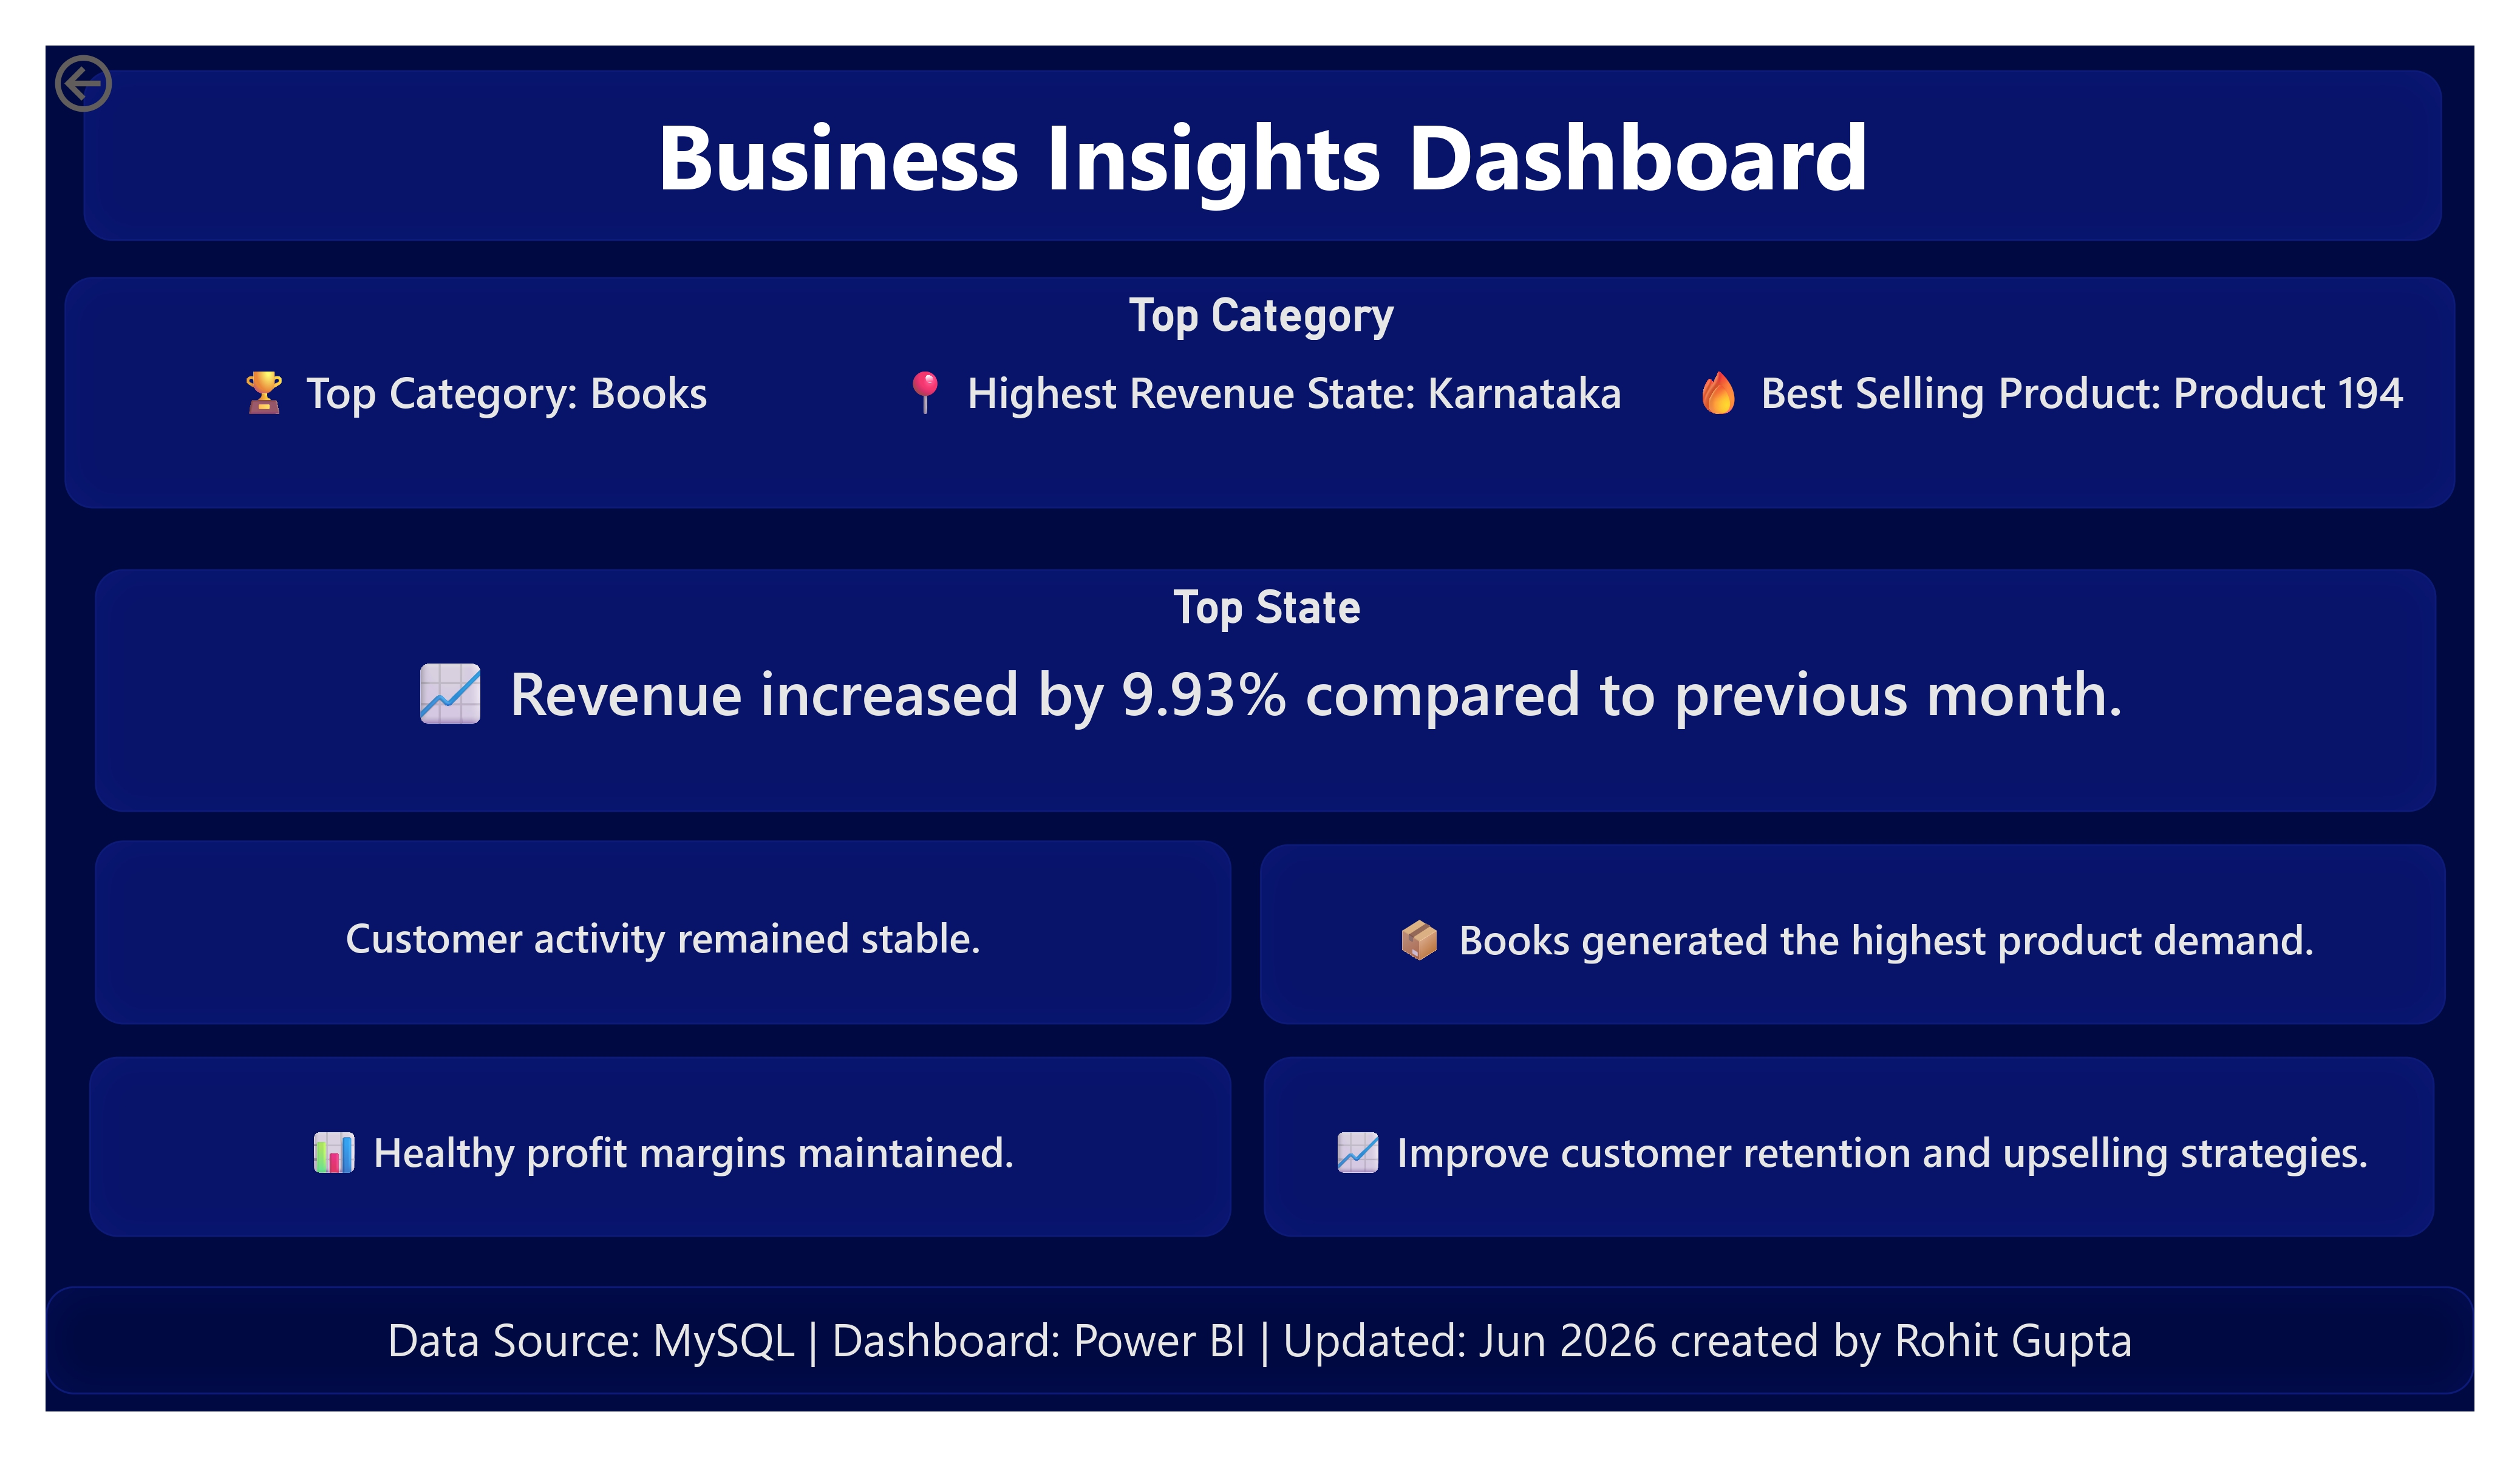

What the dashboard file says about the page in this screenshot:
{"tool":"powerbi","page":{"name":"Business Insights Dashboard","canvas":[1280,720],"ordinal":3},"visuals":[{"type":"textbox","box":[20,12.5,1242.5,90],"z":0},{"type":"actionButton","box":[0,0,100,40],"z":2000},{"type":"textbox","box":[0,654,1280,57],"z":3000},{"type":"group","id":"g1","title":"Group 2","box":[25.7,418.6,598.6,97.1],"z":4000},{"type":"group","id":"g2","title":"Group 2","box":[10,122,1260,122],"z":5000},{"type":"group","id":"g3","title":"Group 2","box":[640,420.8,625,95],"z":7000},{"type":"cardVisual","title":"Top Category","fields":{"Data":["Top.Top Category Insight","Top.Top State Insight","Top.Tops Product Insight"]},"box":[10,122,1260,122],"z":8000,"group":"g2"},{"type":"cardVisual","fields":{"Data":["Top.Customers Insight"]},"box":[25.7,418.6,598.6,97.1],"z":8000,"group":"g1"},{"type":"cardVisual","fields":{"Data":["Top.Product Insight"]},"box":[640,420.8,625,95],"z":8000,"group":"g3"},{"type":"cardVisual","fields":{"Data":["Top.Business Recommendation"]},"box":[641.7,533.3,617.5,95],"z":8000},{"type":"cardVisual","fields":{"Data":["Top.Profit Insight"]},"box":[22.5,532.5,602.5,95],"z":9000},{"type":"cardVisual","title":"Top State","fields":{"Data":["Top.Revenue Insight"]},"box":[26,276,1234,128],"z":9001}]}

Visuals, with their boxes on the page's 1280x720 design canvas (x1, y1, x2, y2). These are canvas units, not pixel positions in the 2520x1457 screenshot, which may show the page scaled, cropped or inside an application window:
textbox: left=20, top=12, right=1262, bottom=102
actionButton: left=0, top=0, right=100, bottom=40
textbox: left=0, top=654, right=1280, bottom=711
"Group 2" group: left=26, top=419, right=624, bottom=516
"Group 2" group: left=10, top=122, right=1270, bottom=244
"Group 2" group: left=640, top=421, right=1265, bottom=516
"Top Category" cardVisual: left=10, top=122, right=1270, bottom=244
cardVisual - Top.Customers Insight: left=26, top=419, right=624, bottom=516
cardVisual - Top.Product Insight: left=640, top=421, right=1265, bottom=516
cardVisual - Top.Business Recommendation: left=642, top=533, right=1259, bottom=628
cardVisual - Top.Profit Insight: left=22, top=532, right=625, bottom=628
"Top State" cardVisual: left=26, top=276, right=1260, bottom=404
